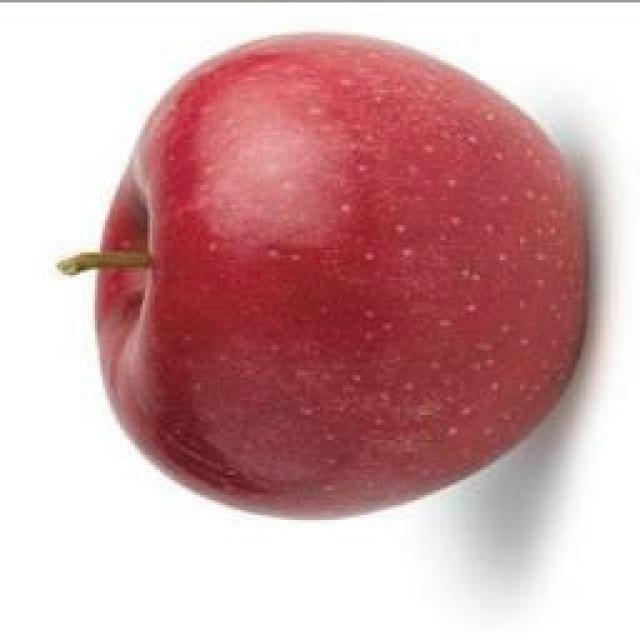Apple: (98, 36, 585, 516)
